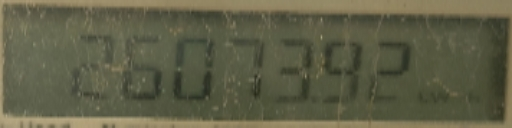0: (166, 28, 222, 112)
2: (69, 25, 116, 106), (368, 25, 410, 104), (272, 31, 315, 106)
6: (115, 29, 163, 104)
7: (219, 31, 269, 106)
9: (318, 29, 366, 109)
d: (309, 94, 319, 105)
